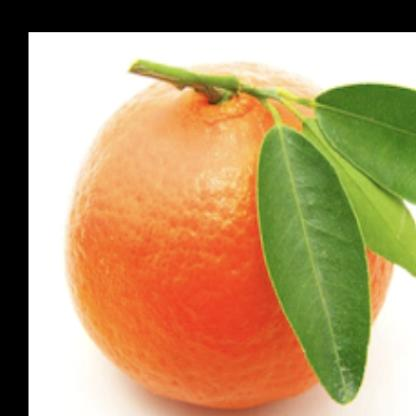fresh: (66, 60, 403, 416)
